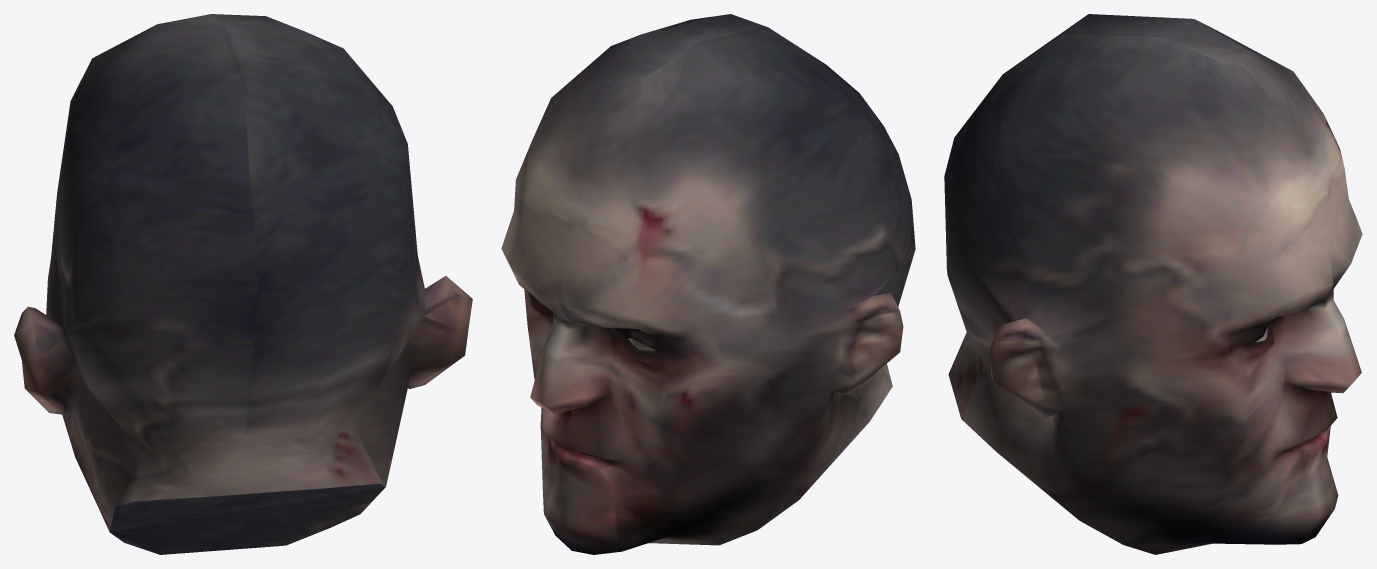
The model's file is ColdFear.ico.obj.
3 views of the same model, side by side, from view 1: azimuth 30°, elevation 25°; view 2: azimuth 150°, elevation 25°; view 3: azimuth 270°, elevation 25° (orthographic). The views are drawn at different scales.
Size of the model in its own units: 3.18 by 4.27 by 3.27.
Materials: 1 (1 with a texture image).
